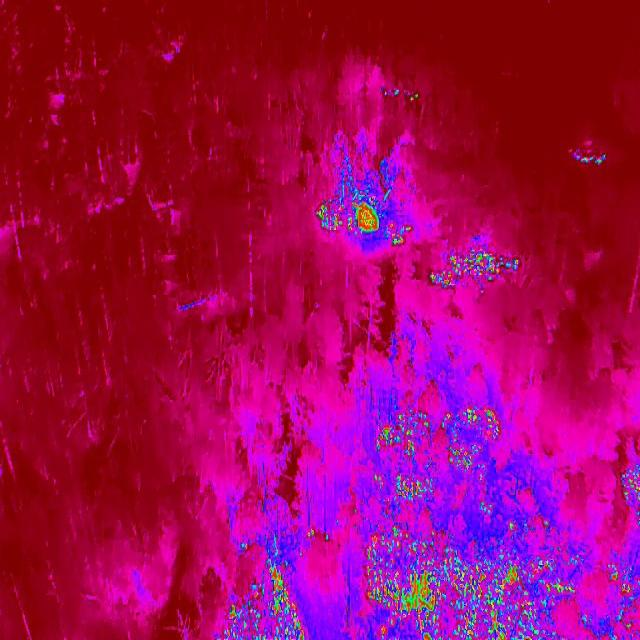fire: (366, 520, 577, 639), (368, 404, 503, 500), (222, 560, 312, 640), (314, 185, 417, 249), (428, 242, 520, 294), (568, 146, 610, 166), (382, 83, 423, 103), (623, 472, 640, 502), (306, 525, 316, 541), (621, 584, 631, 594), (610, 572, 618, 582), (626, 622, 632, 630), (480, 502, 486, 506)
